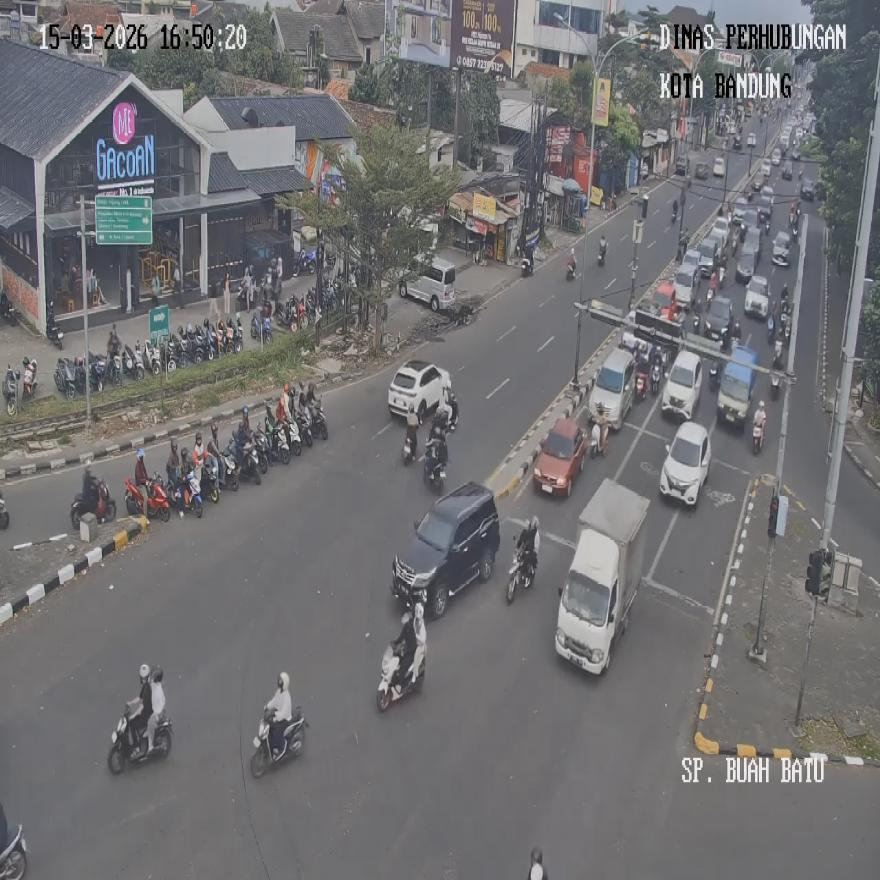Mobil: (554, 476, 649, 674), (390, 482, 500, 617), (658, 419, 709, 506), (387, 358, 452, 424), (534, 416, 587, 496), (398, 252, 457, 310)
Motor: (108, 699, 173, 774), (250, 706, 309, 778), (377, 642, 424, 710), (70, 478, 116, 530), (124, 476, 170, 520), (506, 544, 538, 601), (0, 816, 27, 880), (424, 438, 446, 490), (588, 407, 609, 456), (53, 356, 77, 398), (183, 468, 203, 516), (46, 303, 63, 348), (86, 352, 105, 392), (4, 363, 18, 414), (21, 357, 37, 401), (104, 350, 122, 388), (145, 338, 162, 378), (753, 405, 766, 454), (0, 290, 18, 325), (403, 424, 419, 463), (162, 337, 178, 374), (634, 367, 648, 402), (709, 360, 720, 392), (0, 493, 9, 529), (521, 253, 534, 276), (566, 257, 577, 281), (597, 237, 606, 265), (670, 198, 680, 222)
